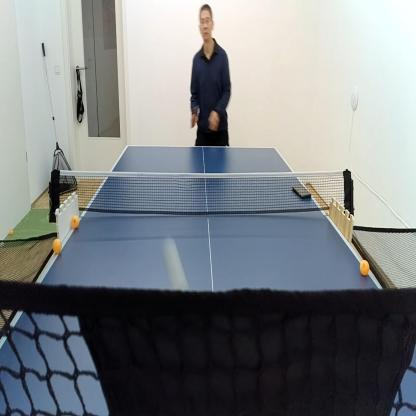Ball: (160, 235, 190, 292), (358, 258, 371, 278), (51, 237, 63, 257), (69, 213, 81, 232), (8, 227, 14, 237), (0, 240, 6, 250)
